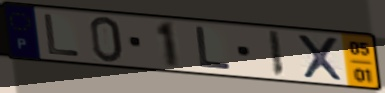0: (87, 15, 126, 64)
1: (156, 19, 184, 71)
I: (266, 29, 287, 79)
L: (193, 25, 234, 73), (41, 12, 83, 58)
X: (294, 32, 347, 84)
